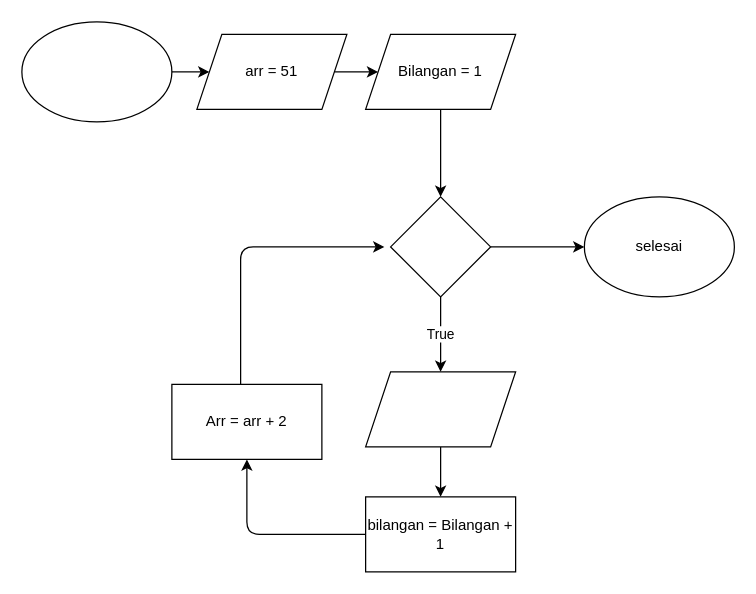
The diagram is 756 pixels wide and 594 high, and some of its shapes have lost their labels. The shapes that lost their labels are listed below. From the top down, each one's box as (x1, y1, x2, y2) in pixels, then its label:
(21, 21, 172, 122): mulai
(389, 196, 491, 297): Bilangan <= 10
(364, 371, 516, 447): print(arr)
